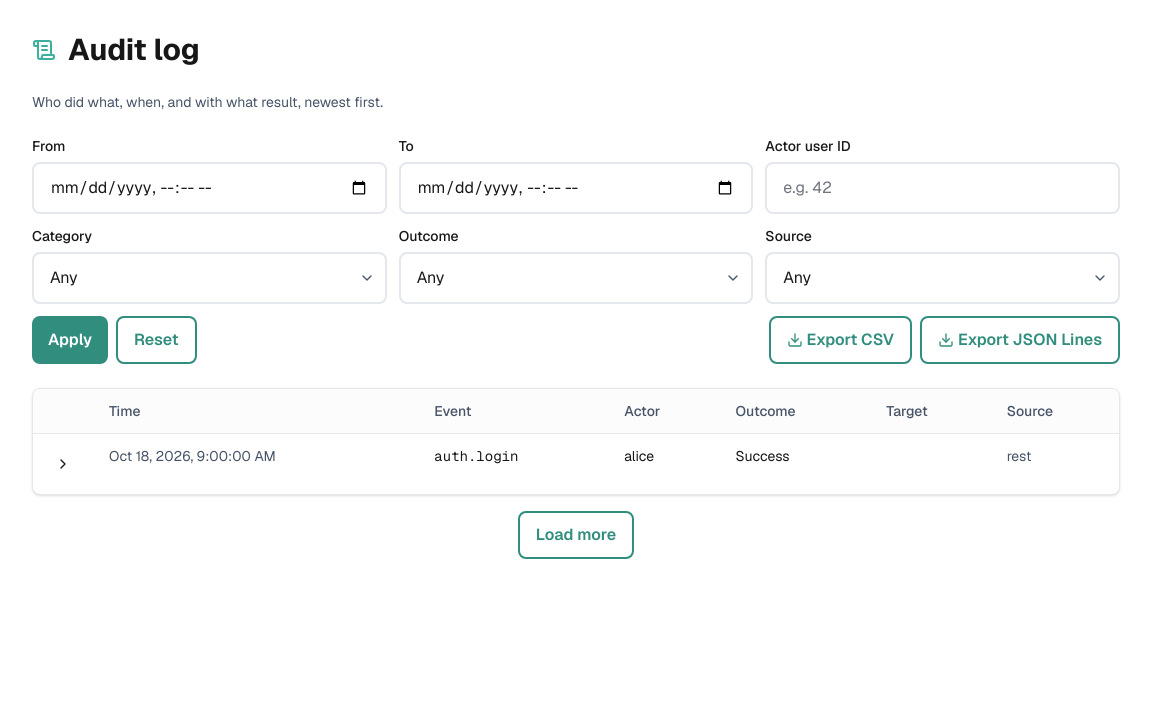
Scenario: AuditLogPage › shows only the error when a refetch fails
Expected: the text "auth.login" is shown, [418,434,608,494]
Step 1. Click the button "Apply" → (70, 340), box [32,316,108,364]
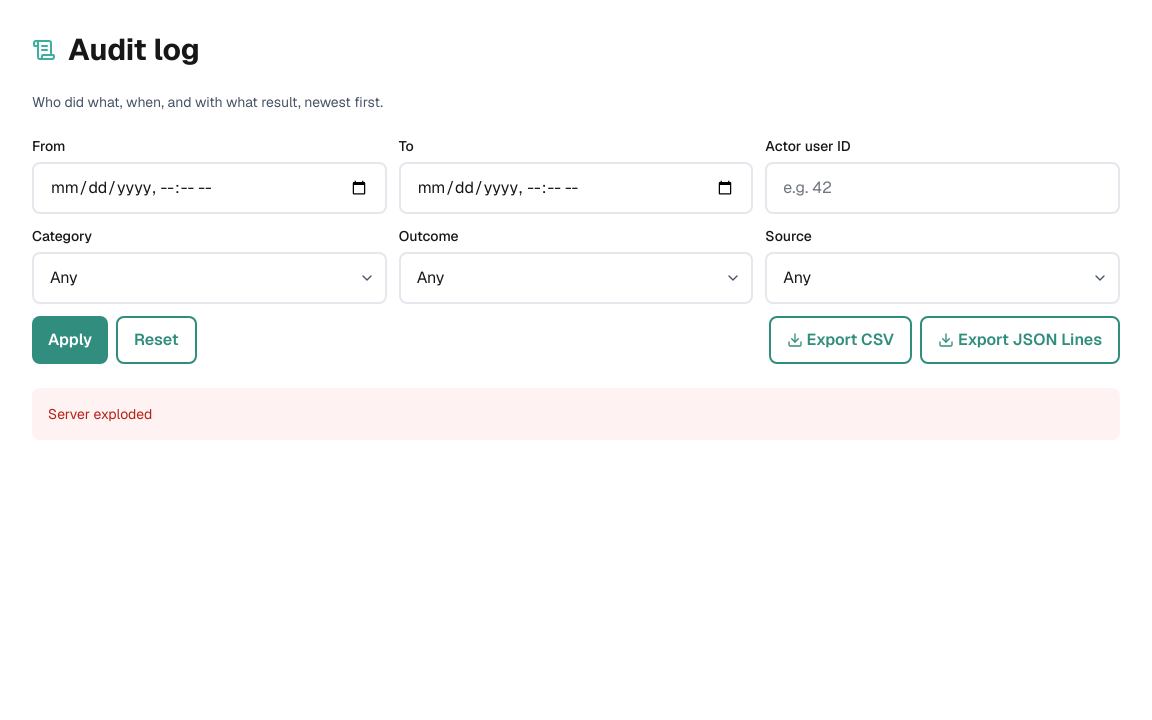
Result: the text "Server exploded" is shown at [48,405,152,423]
Result: the text "auth.login" is gone
Result: the button "Load more" is gone
